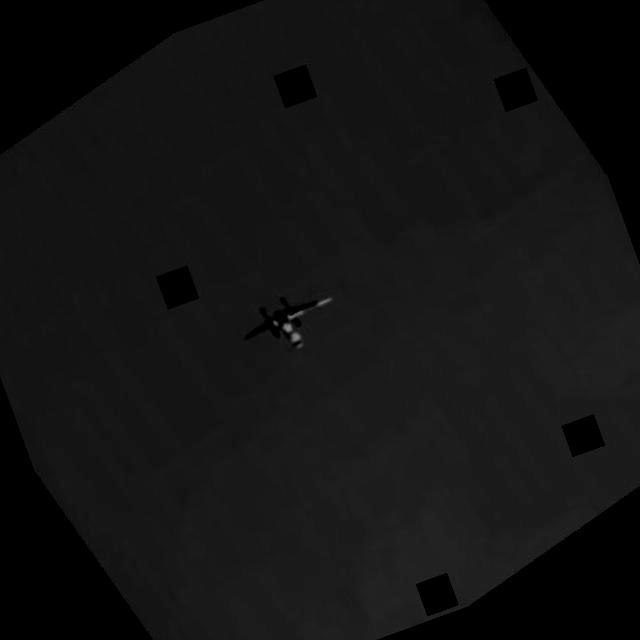aeroplane: (230, 272, 351, 368)
